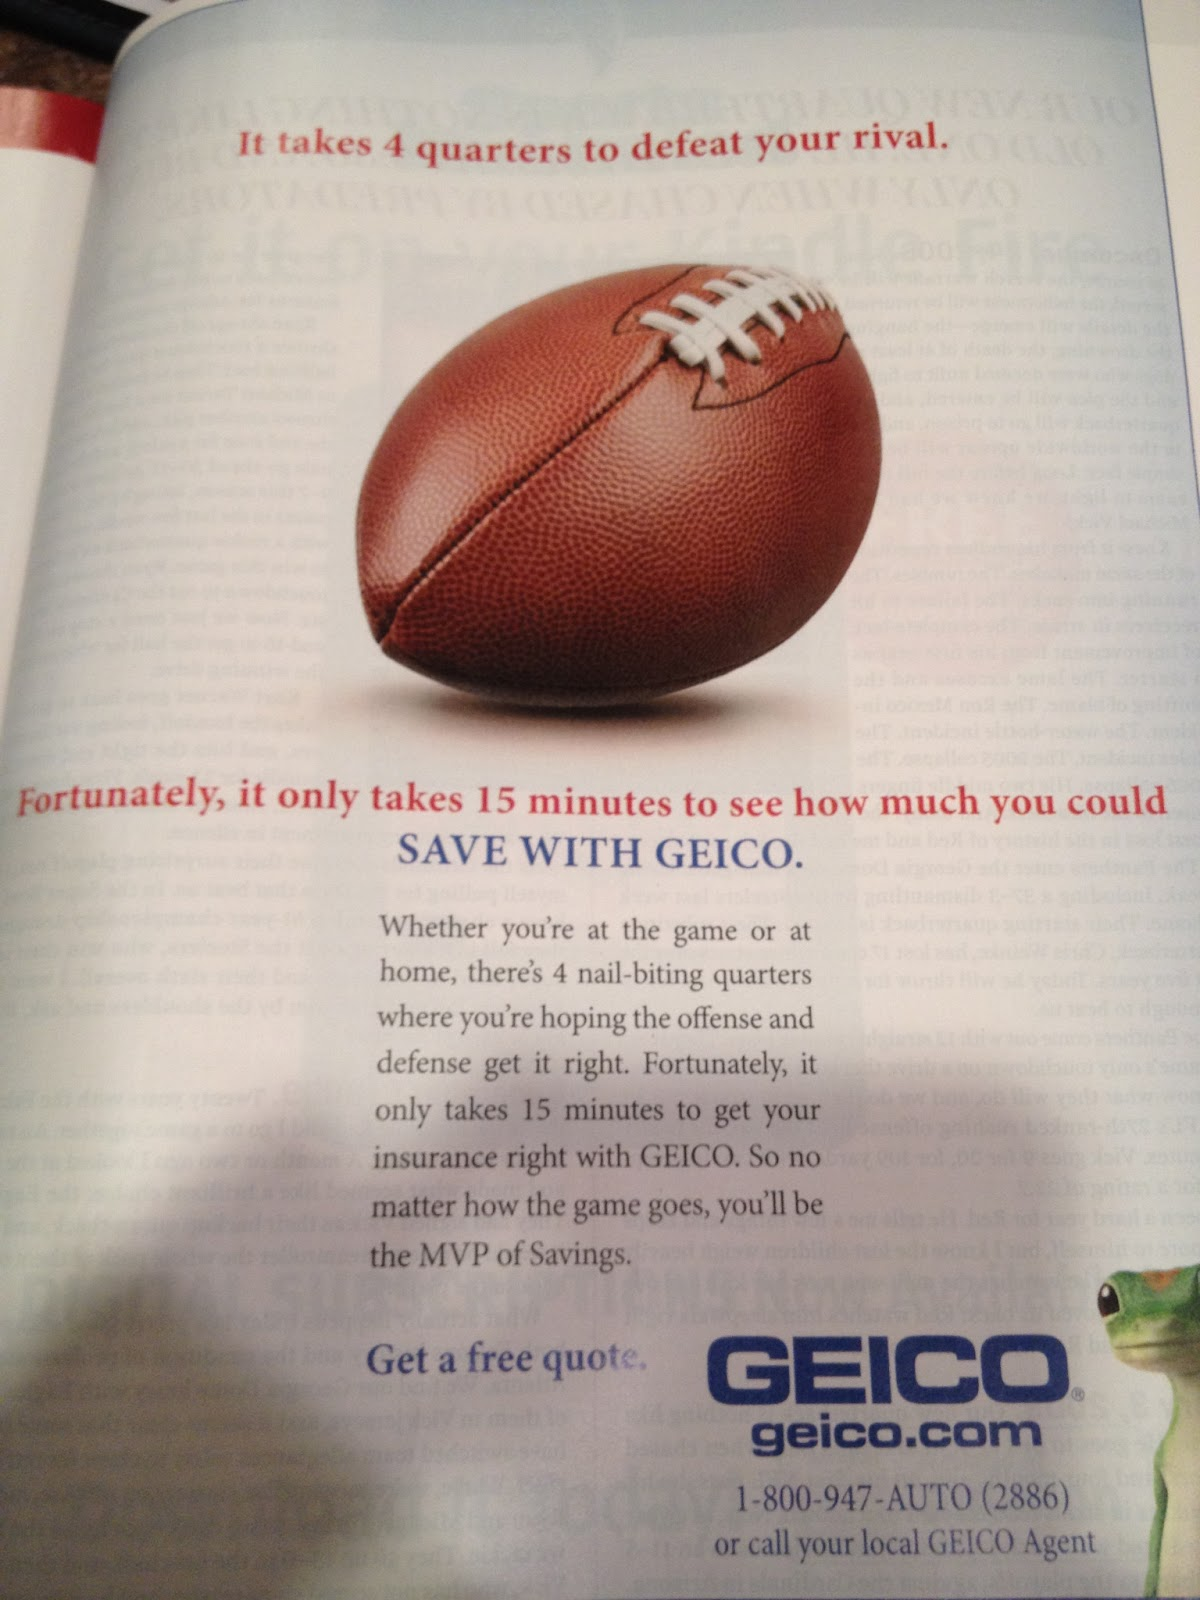geico: (706, 1324, 1092, 1416)
